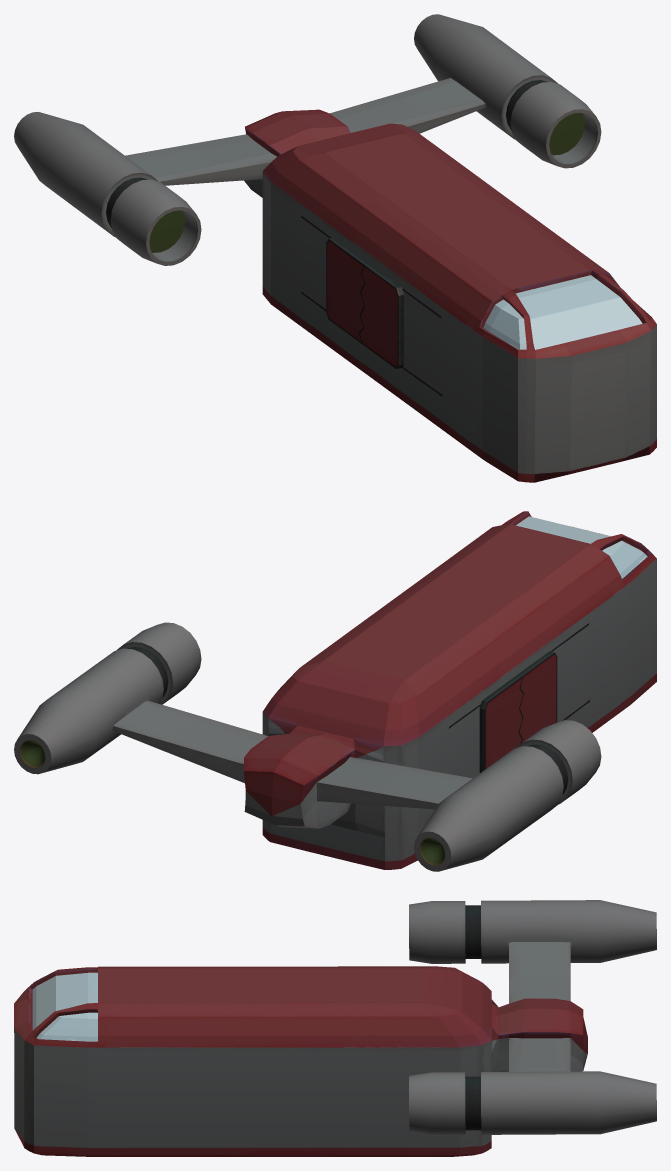
Rendered from CargoShip.fbx.
3 renders of one model, top to bottom at view 1: azimuth 30°, elevation 25°; view 2: azimuth 150°, elevation 25°; view 3: azimuth 270°, elevation 25°, orthographic. The views are drawn at different scales.
Parts seen in each view (by area): view 1: Cargo_Ship, Thruster1; view 2: Cargo_Ship, Thruster1; view 3: Cargo_Ship, Thruster1.
Boxes of the visible parts, x1=… form: Cargo_Ship: x1=125, y1=78, x2=656, y2=482; Thruster1: x1=14, y1=14, x2=601, y2=265; Cargo_Ship: x1=112, y1=511, x2=656, y2=869; Thruster1: x1=14, y1=622, x2=601, y2=871; Cargo_Ship: x1=14, y1=942, x2=587, y2=1156; Thruster1: x1=409, y1=900, x2=656, y2=1135.
Size of the model in its own units: 49.96 by 17.47 by 68.55.
